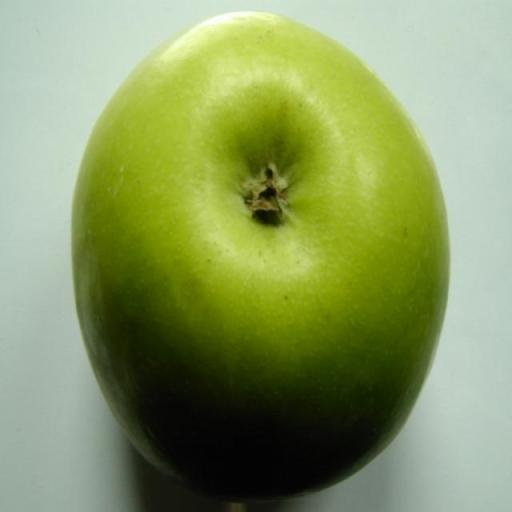fruit: (73, 13, 448, 499)
